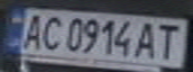0: (63, 15, 84, 53)
1: (97, 16, 118, 55)
4: (112, 17, 139, 57)
9: (78, 16, 103, 55)
A: (133, 19, 163, 60), (18, 11, 48, 50)
C: (36, 12, 66, 52)
T: (151, 20, 187, 61)
